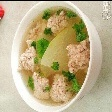dongguawanzi: (16, 6, 92, 103)
